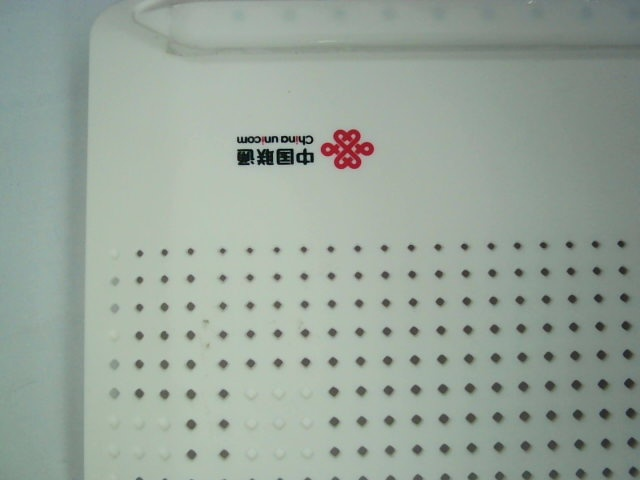AD_ChinaUnicom: (228, 117, 384, 184)
